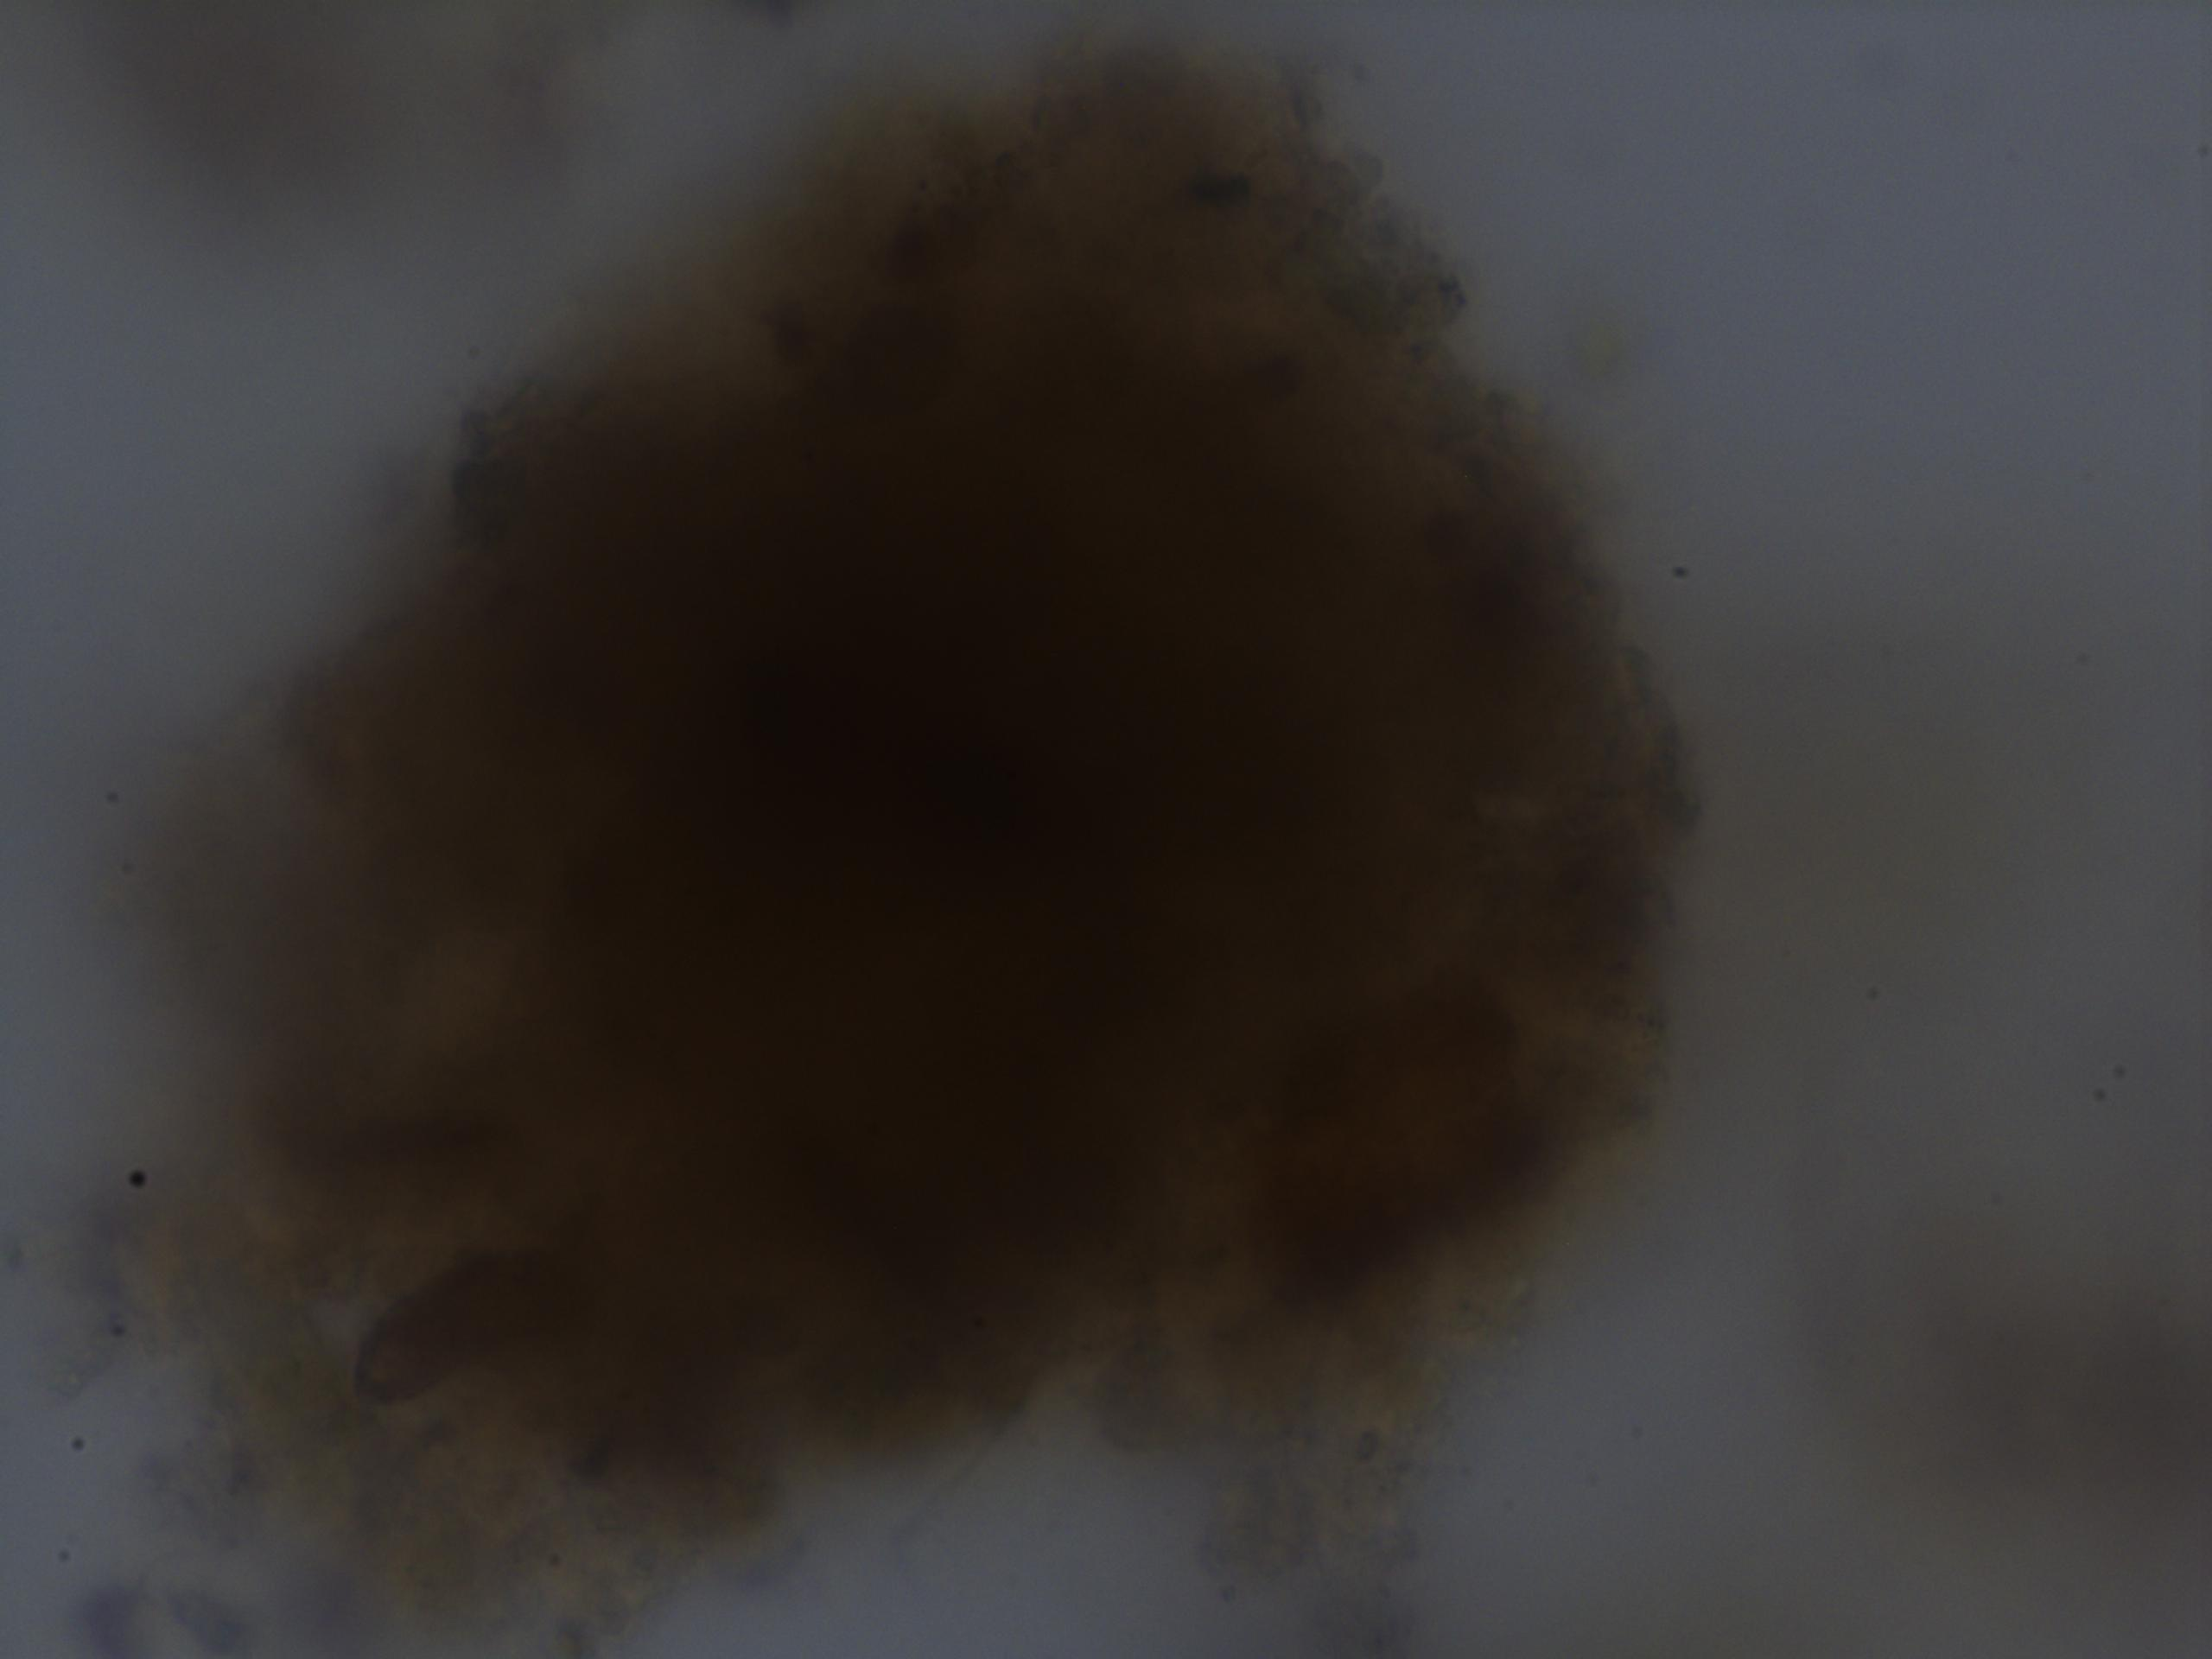spherical_floc: (172, 38, 1700, 1612)
